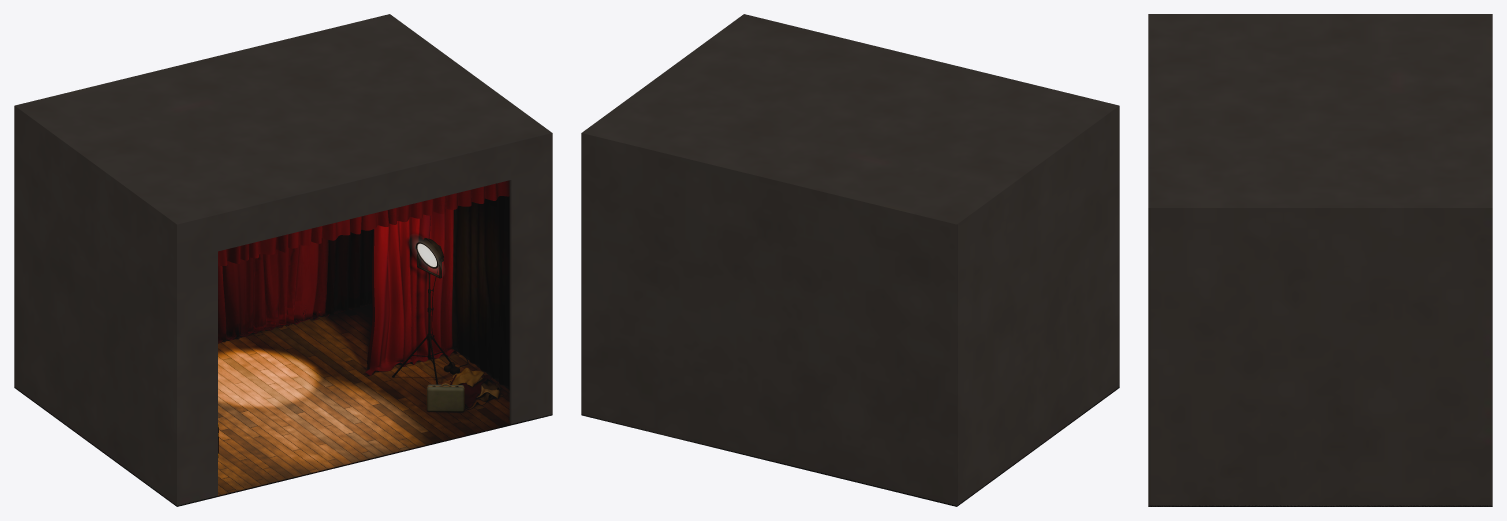
Rendered from backstage-set.glb.
The picture shows the model from 3 angles, left to right: view 1: azimuth 30°, elevation 25°; view 2: azimuth 150°, elevation 25°; view 3: azimuth 270°, elevation 25°; orthographic projection. The views are drawn at different scales.
Visible parts, largest first — view 1: backstage_stage, backstage_floor, backstage_props; view 2: backstage_stage, backstage_floor; view 3: backstage_stage, backstage_floor.
Part boxes in pixels (<box>): backstage_stage: <box>14,14,552,505</box>; backstage_floor: <box>14,304,552,506</box>; backstage_props: <box>218,238,503,457</box>; backstage_stage: <box>581,14,1119,505</box>; backstage_floor: <box>581,387,1119,506</box>; backstage_stage: <box>1148,14,1492,506</box>; backstage_floor: <box>1148,505,1492,506</box>.
Bounding box in the file's own units: 6.4 × 4.6 × 4.8.
Materials: 5 (5 with a texture image).
